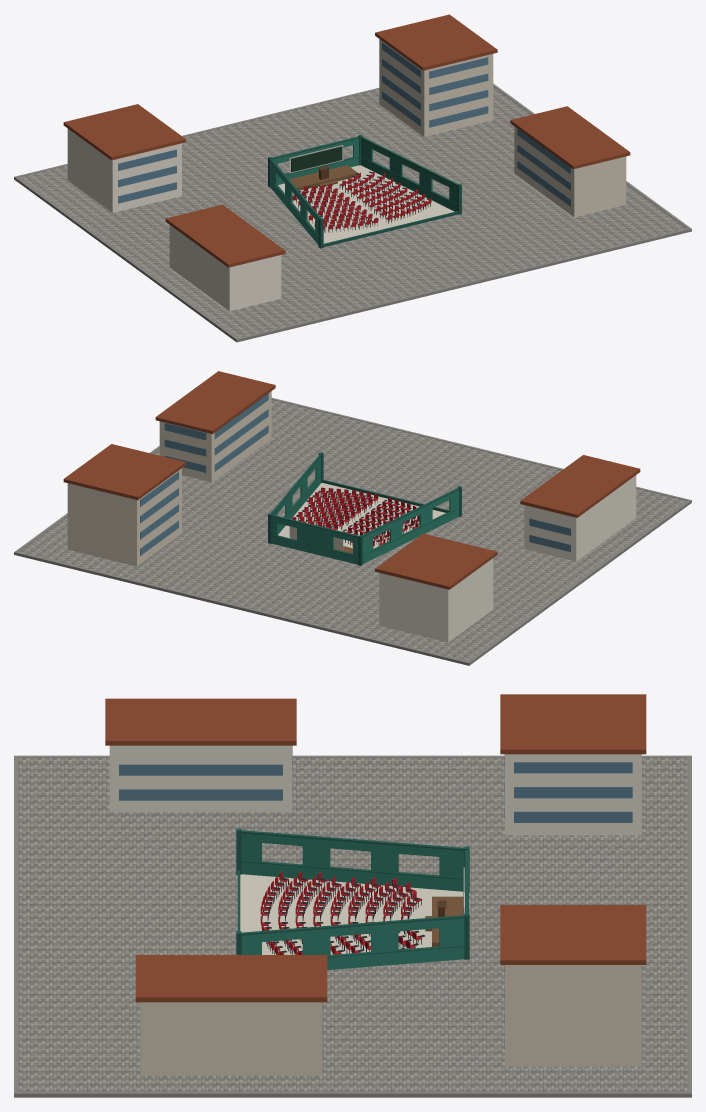
Rendered from lecture-hall.glb.
3 views of the same model, one above another, from view 1: azimuth 30°, elevation 25°; view 2: azimuth 150°, elevation 25°; view 3: azimuth 270°, elevation 25° (orthographic). The views are drawn at different scales.
Parts seen in each view (by area): view 1: Ground, CampusRoof, CampusBlockA, CampusBlockB, CampusWindow, GroundKerb, HallFloor, HallWalls, HallSeat, HallTrim, HallChairFrame, Podium (+1 smaller); view 2: Ground, CampusRoof, CampusBlockA, CampusBlockB, HallWalls, GroundKerb, CampusWindow, HallSeat, HallTrim, HallFloor, HallChairFrame; view 3: Ground, CampusRoof, CampusBlockB, CampusBlockA, HallWalls, GroundKerb, CampusWindow, HallFloor, HallTrim, HallSeat, HallChairFrame, Podium.
Boxes of the visible parts, x1,y1,x2,y2 form: Ground: (18,86,687,337); CampusRoof: (63,14,630,267); CampusBlockA: (67,128,281,311); CampusBlockB: (379,39,626,217); CampusWindow: (118,42,571,206); GroundKerb: (14,83,691,342); HallFloor: (278,165,454,243); HallWalls: (270,138,457,244); HallSeat: (292,171,431,229); HallTrim: (268,135,461,248); HallChairFrame: (293,171,430,232); Podium: (289,165,358,190); Ground: (19,399,686,661); CampusRoof: (63,371,640,589); CampusBlockA: (379,475,636,642); CampusBlockB: (67,391,271,566); HallWalls: (271,457,459,564); GroundKerb: (14,398,691,665); CampusWindow: (140,393,570,555); HallSeat: (292,487,419,546); HallTrim: (268,452,461,565); HallFloor: (278,483,445,548); HallChairFrame: (296,490,419,548); Ground: (18,758,687,1091); CampusRoof: (105,694,646,1002); CampusBlockB: (140,965,641,1075); CampusBlockA: (109,745,641,835); HallWalls: (241,833,464,969); GroundKerb: (14,755,691,1097); CampusWindow: (119,746,632,1059); HallFloor: (240,874,464,954); HallTrim: (236,828,469,959); HallSeat: (260,871,422,954); HallChairFrame: (261,877,424,954); Podium: (425,896,463,946).
Size of the model in its own units: 52.6 by 8.1 by 44.6.
15 materials, 1 textured.
